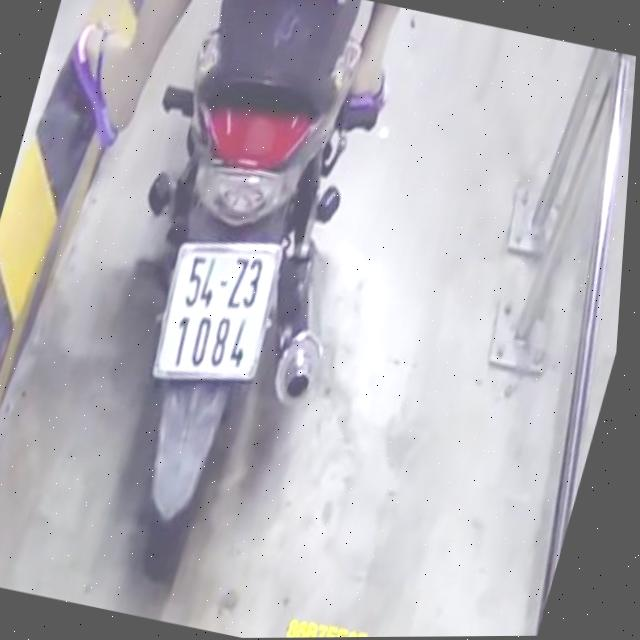motorcycle: (48, 0, 431, 584)
plate: (139, 225, 294, 393)
